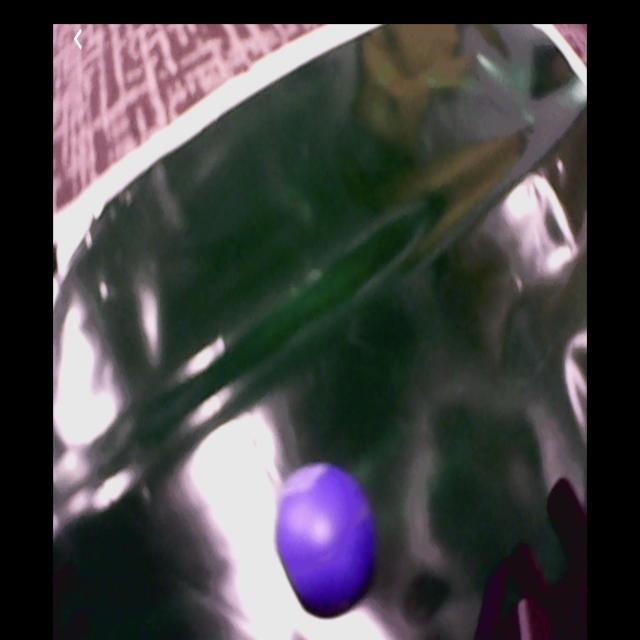ball: (276, 466, 375, 621)
